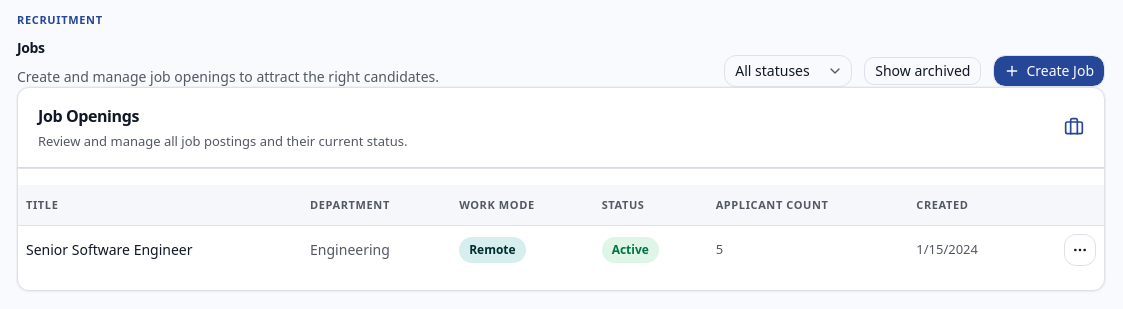
JobsPage › Status Filtering › toggles include archived filter
Check: the button "Senior Software Engineer" is shown, box [26,240,294,260]
Note: Toggle archived
Click the button "Show archived" at (923, 70), box [864,56,981,84]
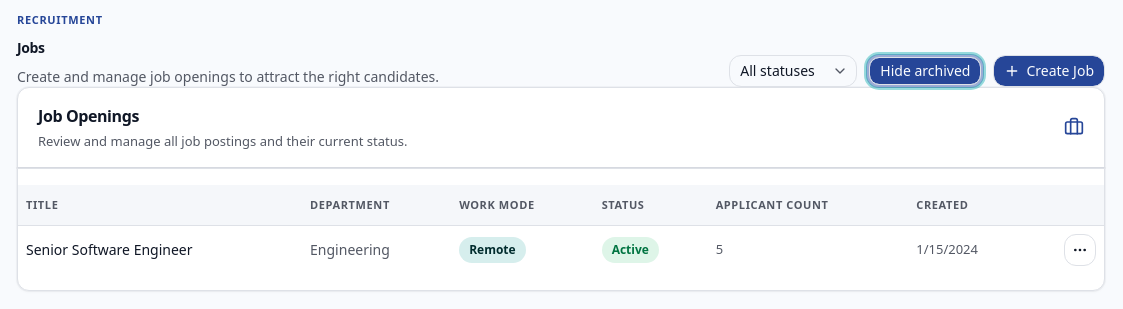
Check: the button "Hide archived" is shown, box [869,56,981,84]
